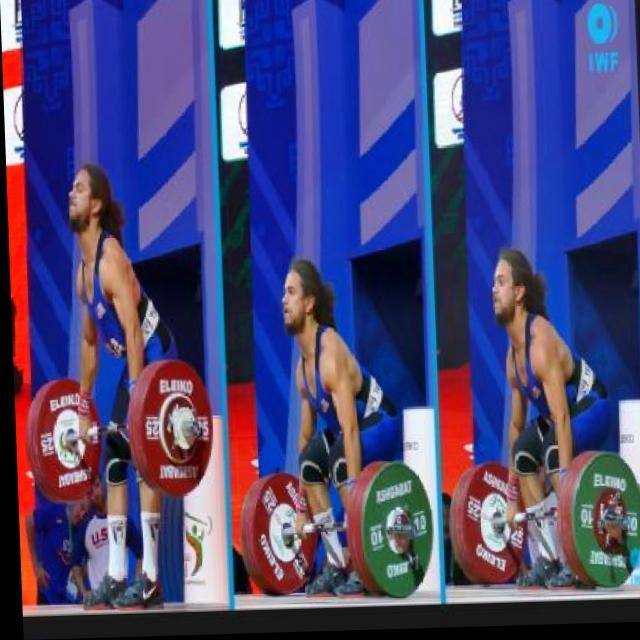barbell: (353, 456, 434, 602), (564, 452, 640, 596), (135, 357, 208, 500)
